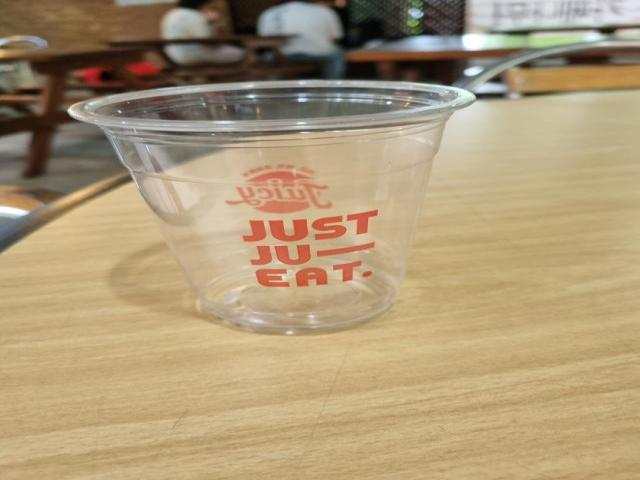cup: (61, 74, 491, 346)
